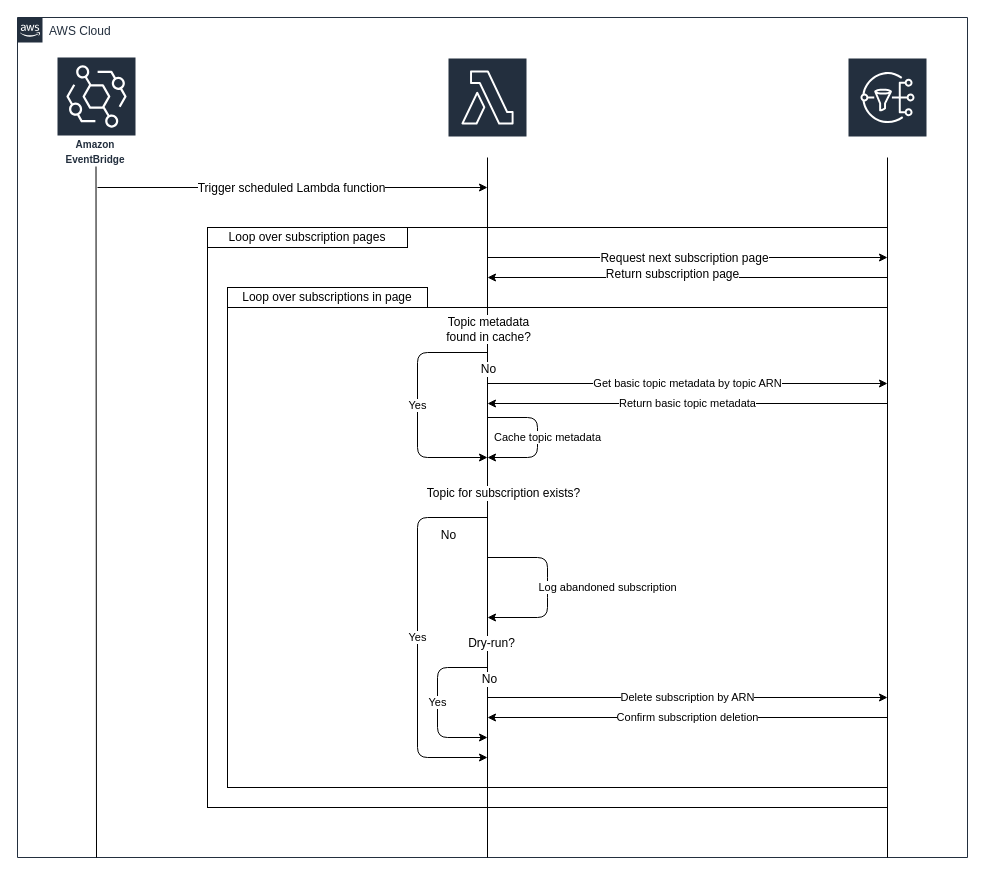
This 985x876 diagram has some shape labels left out. Each missing label, with the centre of its shape:
Amazon SNS: point 887,107
AWS Lambda: point 487,107
